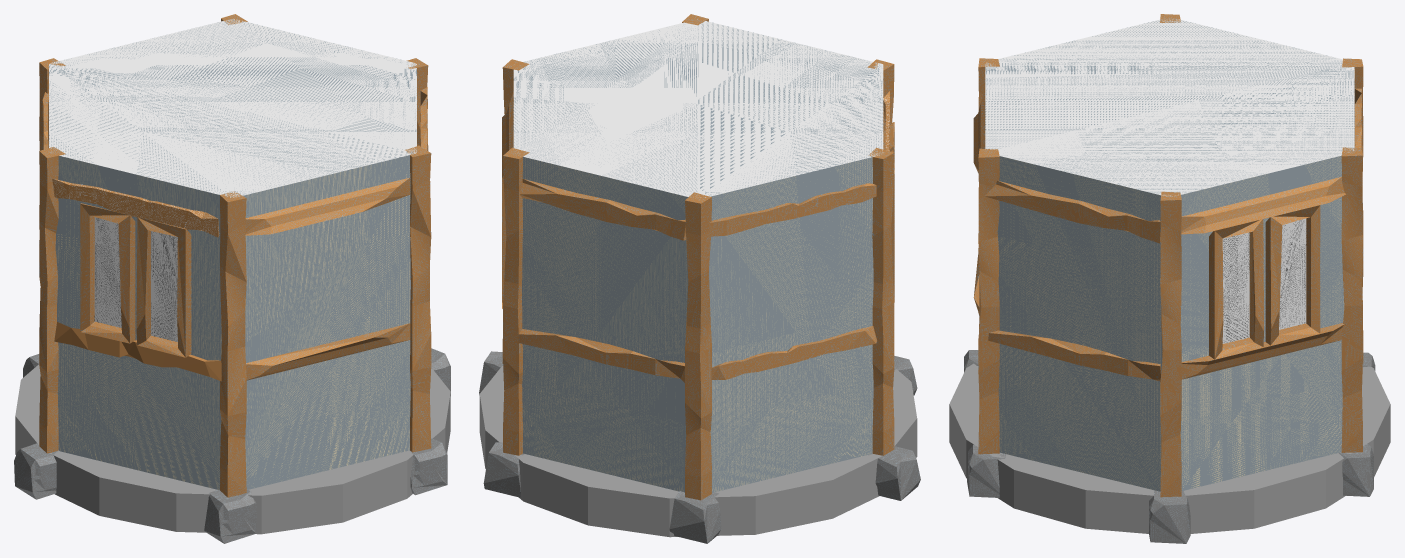
The model's file is Tower21.fbx.
The picture shows the model from 3 angles, left to right: view 1: azimuth 30°, elevation 25°; view 2: azimuth 150°, elevation 25°; view 3: azimuth 270°, elevation 25°; orthographic projection.
Visible parts, largest first — view 1: House1, Group24, Stolb6_3, Group23, Group22, Stolb6_4, Stolb6_2, Group12, Group9, Group14, Group8, Group17 (+5 smaller); view 2: House1, Group24, Stolb6_1, Stolb6_2, Stolb6_6, Group6, Group7, Group10, Group11, Group21, Group16, Group20 (+4 smaller); view 3: House1, Group24, Group3, Group2, Stolb6_5, Stolb6_6, Stolb6_4, Group5, Group13, Group15, Group4, Group19 (+4 smaller).
Boxes of the visible parts, x1=… form: House1: x1=49, y1=19, x2=416, y2=490; Group24: x1=15, y1=364, x2=450, y2=534; Stolb6_3: x1=220, y1=191, x2=246, y2=497; Group23: x1=80, y1=203, x2=135, y2=343; Group22: x1=136, y1=217, x2=191, y2=357; Stolb6_4: x1=405, y1=146, x2=431, y2=452; Stolb6_2: x1=39, y1=147, x2=65, y2=453; Group12: x1=245, y1=177, x2=409, y2=235; Group9: x1=52, y1=178, x2=219, y2=237; Group14: x1=246, y1=323, x2=410, y2=380; Group8: x1=54, y1=322, x2=221, y2=381; Group17: x1=204, y1=489, x2=256, y2=543; House1: x1=513, y1=19, x2=883, y2=492; Group24: x1=479, y1=366, x2=917, y2=537; Stolb6_1: x1=685, y1=192, x2=711, y2=500; Stolb6_2: x1=868, y1=148, x2=894, y2=455; Stolb6_6: x1=503, y1=147, x2=529, y2=455; Group6: x1=519, y1=179, x2=686, y2=240; Group7: x1=518, y1=329, x2=684, y2=382; Group10: x1=709, y1=183, x2=876, y2=236; Group11: x1=711, y1=326, x2=876, y2=379; Group21: x1=669, y1=491, x2=721, y2=543; Group16: x1=868, y1=446, x2=920, y2=500; Group20: x1=483, y1=442, x2=524, y2=497; House1: x1=985, y1=18, x2=1354, y2=491; Group24: x1=949, y1=363, x2=1390, y2=533; Group3: x1=1265, y1=205, x2=1320, y2=345; Group2: x1=1209, y1=219, x2=1263, y2=359; Stolb6_5: x1=1160, y1=191, x2=1181, y2=497; Stolb6_6: x1=1341, y1=147, x2=1362, y2=452; Stolb6_4: x1=978, y1=148, x2=999, y2=454; Group5: x1=1181, y1=177, x2=1345, y2=234; Group13: x1=985, y1=180, x2=1160, y2=243; Group15: x1=988, y1=330, x2=1160, y2=381; Group4: x1=1181, y1=323, x2=1344, y2=379; Group19: x1=1148, y1=490, x2=1190, y2=543.
Size of the model in its own units: 3425 by 2600 by 3100.
